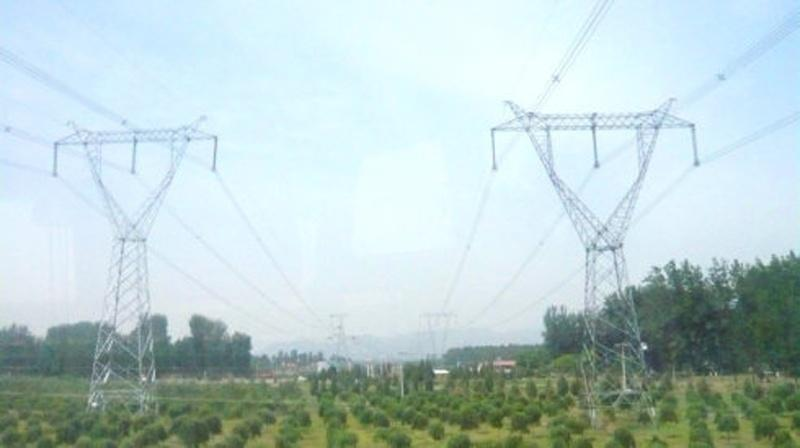power_tower: (484, 96, 705, 428), (48, 113, 220, 418), (417, 308, 459, 370), (324, 308, 358, 376)
